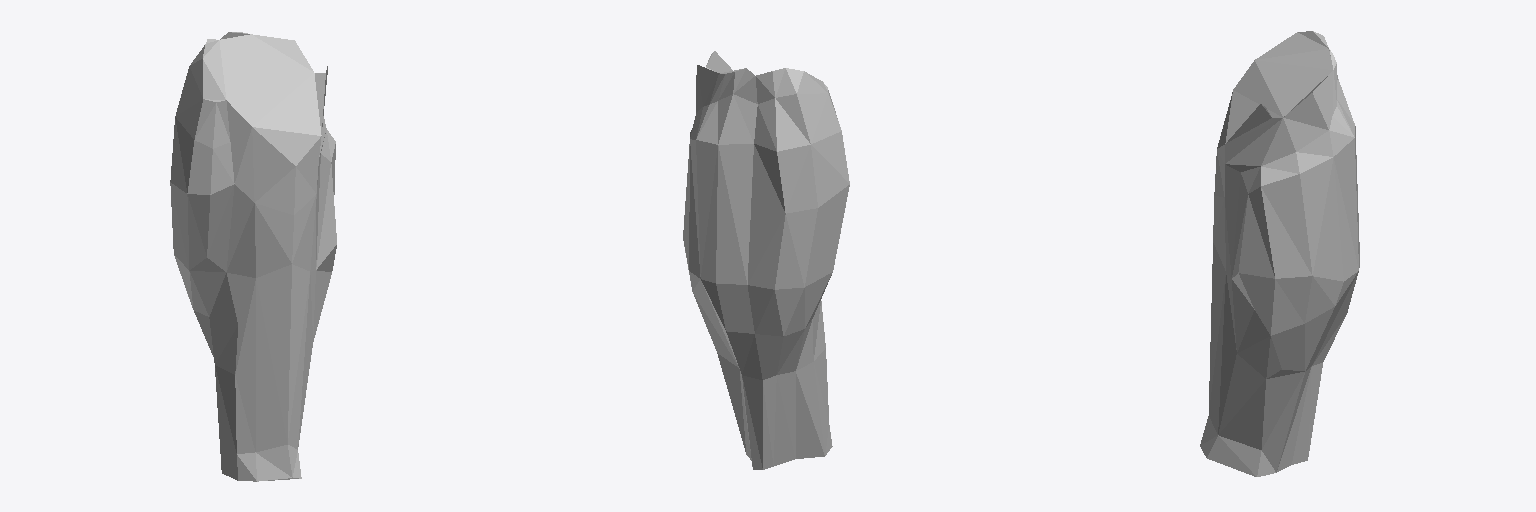
Rendered from rightforeleg.obj.
The picture shows the model from 3 angles: view 1: azimuth 30°, elevation 25°; view 2: azimuth 150°, elevation 25°; view 3: azimuth 270°, elevation 25°; orthographic projection.
Parts seen in each view (by area): view 1: cube1_copy15; view 2: cube1_copy15; view 3: cube1_copy15.
Boxes of the visible parts, <box> form: cube1_copy15: <box>170,32,336,481</box>; cube1_copy15: <box>683,51,849,469</box>; cube1_copy15: <box>1200,31,1359,476</box>.
Size of the model in its own units: 0.795 by 2.1 by 0.7333.